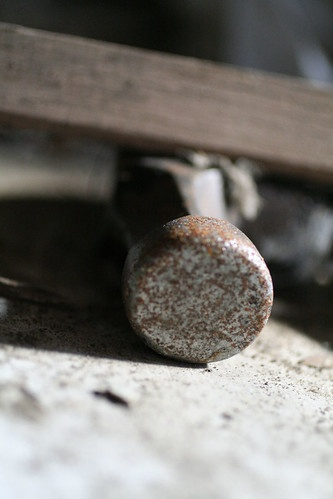hammer: (101, 138, 276, 368)
